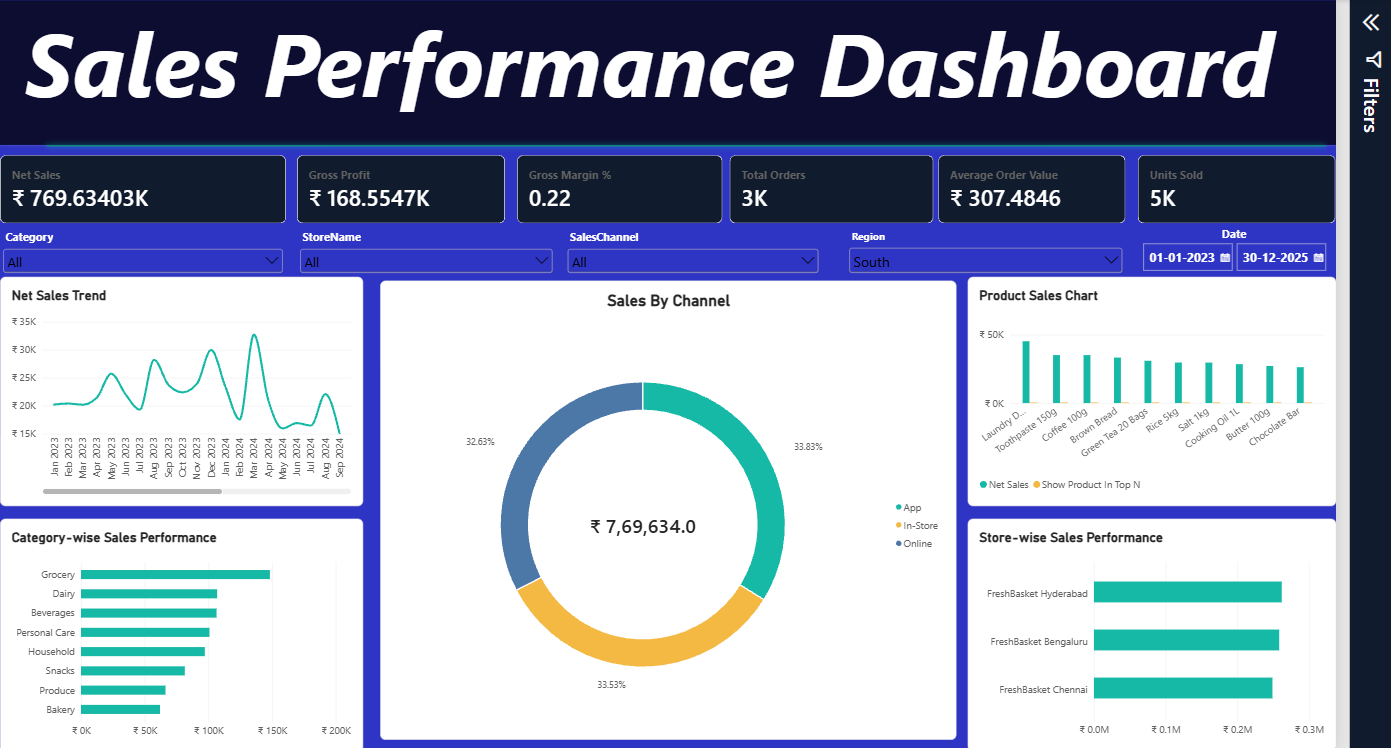

Layout of this report page (visuals, bound fields, positions):
{"tool":"powerbi","page":{"name":"Executive Overview","canvas":[1920,1080],"ordinal":0},"visuals":[{"type":"clusteredColumnChart","title":" Product Sales Chart","fields":{"Category":["Products.ProductName"],"Y":["_Measures.Net Sales","_Measures.Show Product In Top N"]},"box":[1390,400,530,330],"z":0},{"type":"cardVisual","fields":{"Data":["_Measures.Net Sales"]},"box":[0,224.8,411,98.5],"z":1000},{"type":"cardVisual","fields":{"Data":["_Measures.Gross Profit"]},"box":[426,224.8,299.7,98.5],"z":2000},{"type":"cardVisual","fields":{"Data":["_Measures.Gross Margin %"]},"box":[742.8,224.8,295.4,98.5],"z":3000},{"type":"cardVisual","fields":{"Data":["_Measures.Total Orders"]},"box":[1049,224.8,293.3,98.5],"z":4000},{"type":"cardVisual","fields":{"Data":["_Measures.Average Order Value"]},"box":[1348.7,224.8,269.7,98.5],"z":5000},{"type":"cardVisual","fields":{"Data":["_Measures.Units Sold"]},"box":[1635.5,224.8,284.7,98.5],"z":6000},{"type":"lineChart","title":"Net Sales Trend","fields":{"Category":["Date.Month Year"],"Y":["_Measures.Net Sales"]},"box":[0,400,522,330],"z":7000},{"type":"clusteredBarChart","title":"Store-wise Sales Performance","fields":{"Category":["Stores.StoreName"],"Y":["_Measures.Net Sales"]},"box":[1390,746,530,334],"z":8000},{"type":"clusteredBarChart","title":"Category-wise Sales Performance","fields":{"Category":["Products.Category"],"Y":["_Measures.Net Sales"]},"box":[0,746,522,336],"z":9000},{"type":"donutChart","title":"Sales By Channel","fields":{"Category":["Sales.SalesChannel"],"Y":["_Measures.Net Sales"]},"box":[546,404,828,660],"z":10000},{"type":"slicer","title":"Date","fields":{"Values":["Date.Date"]},"box":[1636,326,276,74],"z":11000},{"type":"slicer","fields":{"Values":["Stores.Region"]},"box":[1216,332,402,68],"z":12000},{"type":"slicer","fields":{"Values":["Stores.StoreName"]},"box":[426,332,372,68],"z":13000},{"type":"slicer","fields":{"Values":["Products.Category"]},"box":[0,332,411,72.8],"z":14000},{"type":"slicer","fields":{"Values":["Sales.SalesChannel"]},"box":[812,332,370,68],"z":15000},{"type":"textbox","box":[0,2.1,1920.2,207.7],"z":16000},{"type":"shape","box":[58,150,1854,120],"z":17000}]}

Visuals, with their boxes on the page's 1920x1080 design canvas (x1, y1, x2, y2). These are canvas units, not pixel positions in the 1391x748 screenshot, which may show the page scaled, cropped or inside an application window:
" Product Sales Chart" clusteredColumnChart: rect(1390, 400, 1920, 730)
cardVisual - _Measures.Net Sales: rect(0, 225, 411, 323)
cardVisual - _Measures.Gross Profit: rect(426, 225, 726, 323)
cardVisual - _Measures.Gross Margin %: rect(743, 225, 1038, 323)
cardVisual - _Measures.Total Orders: rect(1049, 225, 1342, 323)
cardVisual - _Measures.Average Order Value: rect(1349, 225, 1618, 323)
cardVisual - _Measures.Units Sold: rect(1636, 225, 1920, 323)
"Net Sales Trend" lineChart: rect(0, 400, 522, 730)
"Store-wise Sales Performance" clusteredBarChart: rect(1390, 746, 1920, 1080)
"Category-wise Sales Performance" clusteredBarChart: rect(0, 746, 522, 1082)
"Sales By Channel" donutChart: rect(546, 404, 1374, 1064)
"Date" slicer: rect(1636, 326, 1912, 400)
slicer - Stores.Region: rect(1216, 332, 1618, 400)
slicer - Stores.StoreName: rect(426, 332, 798, 400)
slicer - Products.Category: rect(0, 332, 411, 405)
slicer - Sales.SalesChannel: rect(812, 332, 1182, 400)
textbox: rect(0, 2, 1920, 210)
shape: rect(58, 150, 1912, 270)
